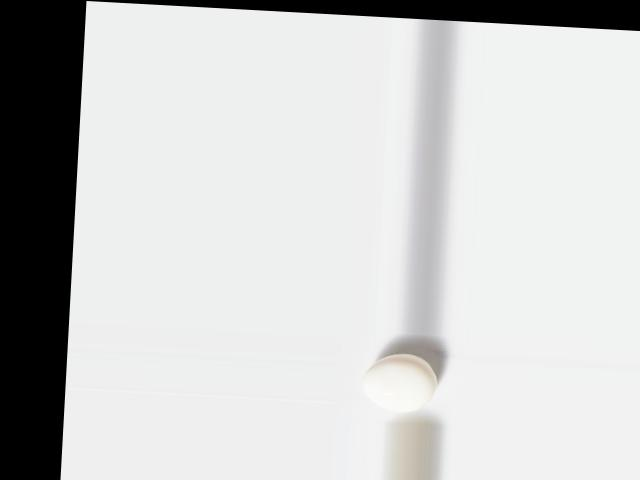egg: (362, 351, 439, 413)
